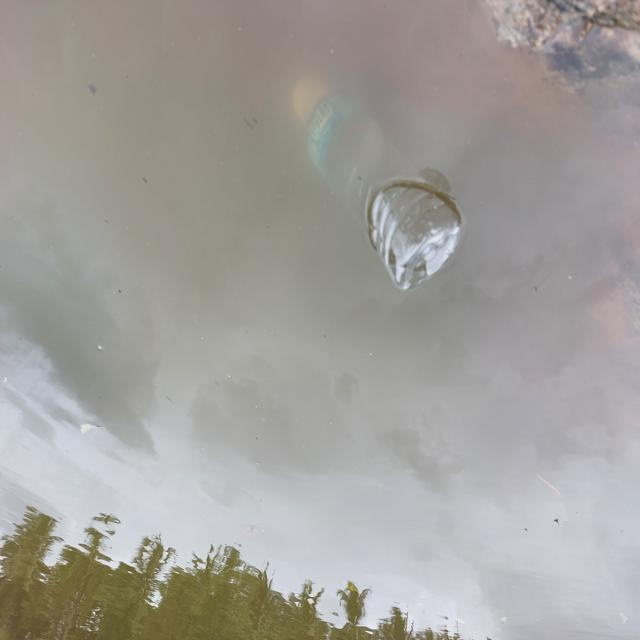waterbottle: (278, 64, 462, 290)
